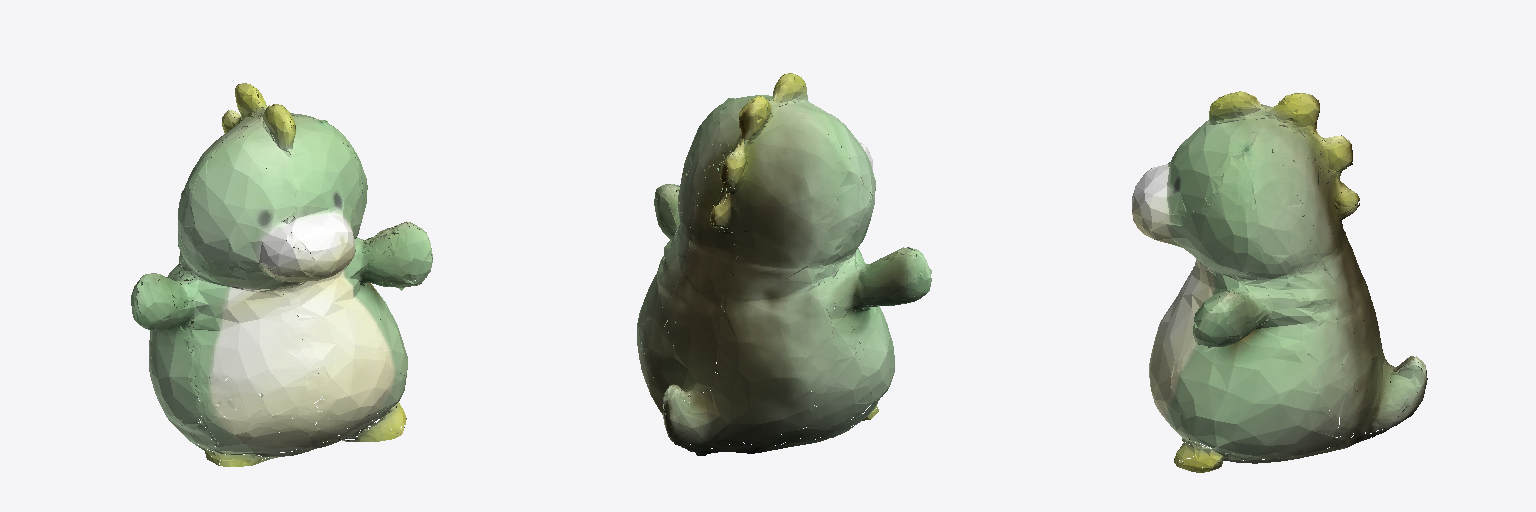
The picture shows the model from 3 angles: view 1: azimuth 30°, elevation 25°; view 2: azimuth 150°, elevation 25°; view 3: azimuth 270°, elevation 25°; orthographic projection.
Visible parts, largest first — view 1: Model; view 2: Model; view 3: Model.
Part boxes in pixels (x1,y1,x2,y2): Model: (131, 83, 432, 466); Model: (637, 73, 931, 455); Model: (1132, 91, 1427, 472).
Bounding box in the file's own units: 0.3844 × 0.4262 × 0.3459.
1 materials, 1 textured.